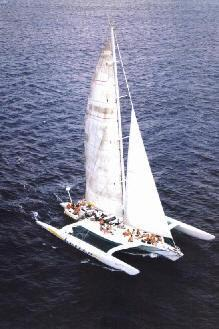Ship: (37, 28, 217, 275)
